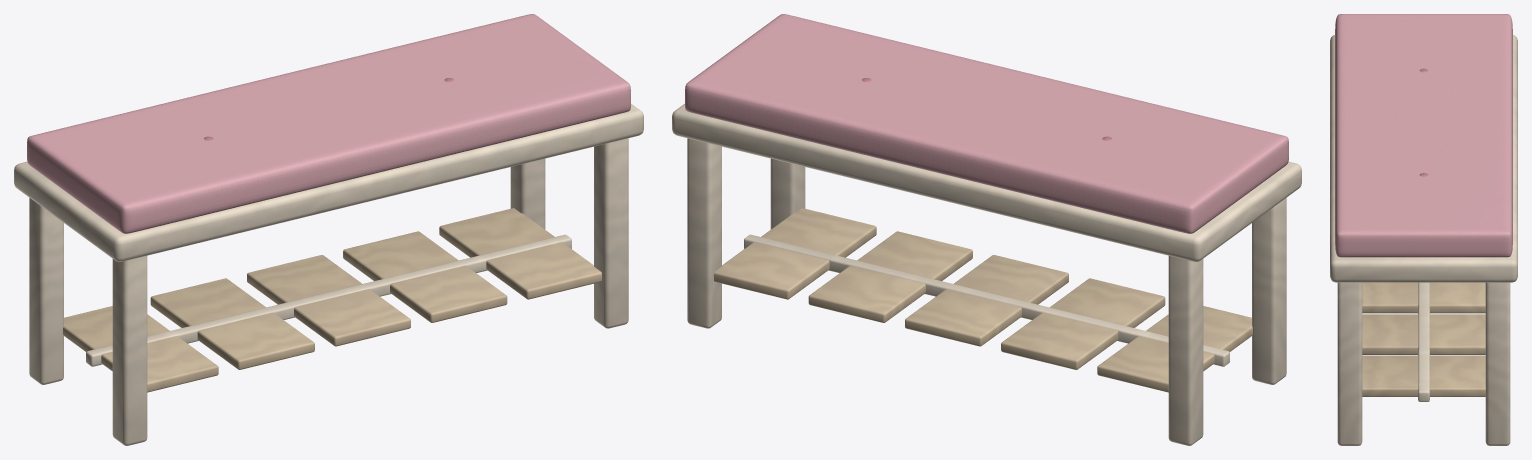
File: scene-hall-bench.glb
3 renders of one model, left to right at view 1: azimuth 30°, elevation 25°; view 2: azimuth 150°, elevation 25°; view 3: azimuth 270°, elevation 25°, orthographic. The views are drawn at different scales.
Parts seen in each view (by area): view 1: scene-hall-bench; view 2: scene-hall-bench; view 3: scene-hall-bench.
Boxes of the visible parts, x1,y1,x2,y2 form: scene-hall-bench: (14, 14, 643, 445); scene-hall-bench: (672, 14, 1301, 445); scene-hall-bench: (1330, 14, 1517, 445).
Size of the model in its own units: 1.1 by 0.482 by 0.38.
Materials: 1 (1 with a texture image).
